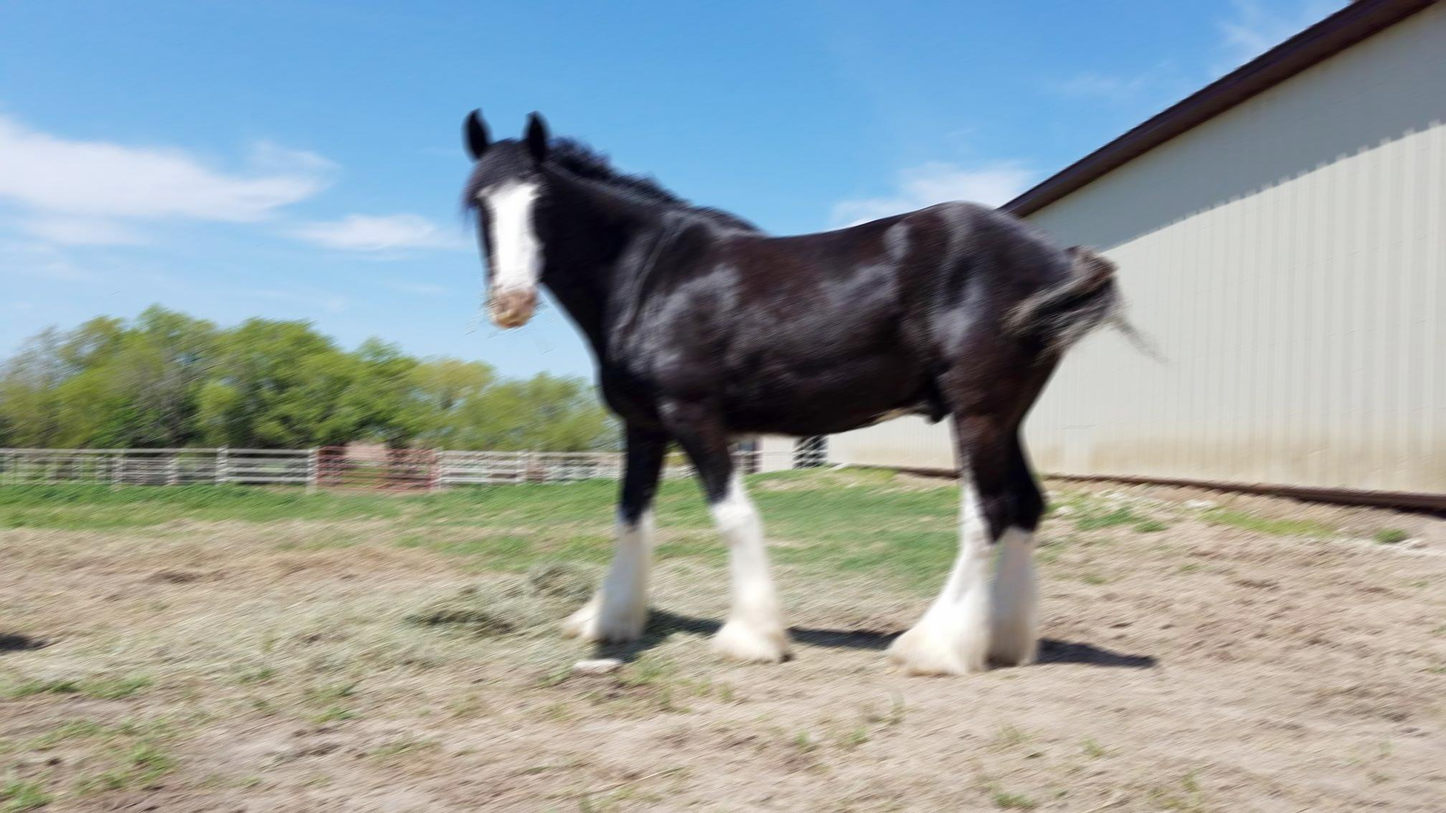horse: (444, 96, 1149, 681)
